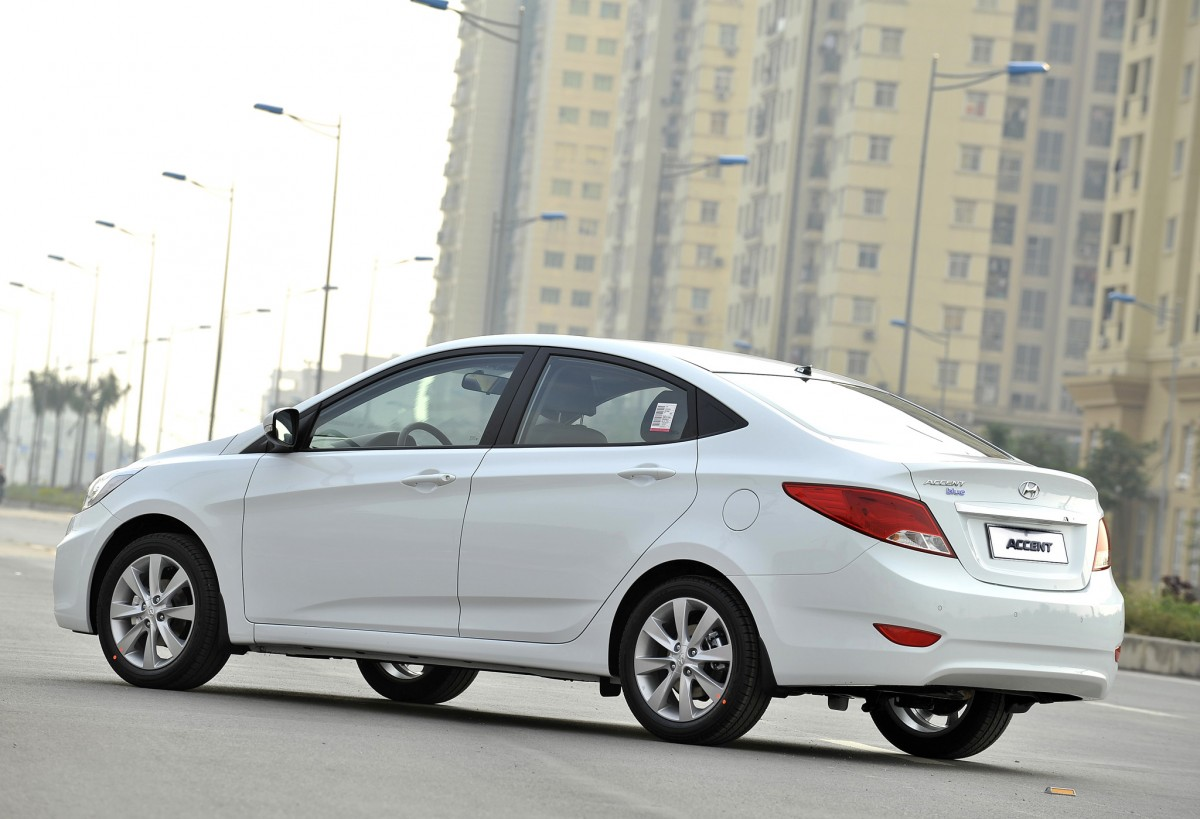accent: (36, 324, 1139, 779)
